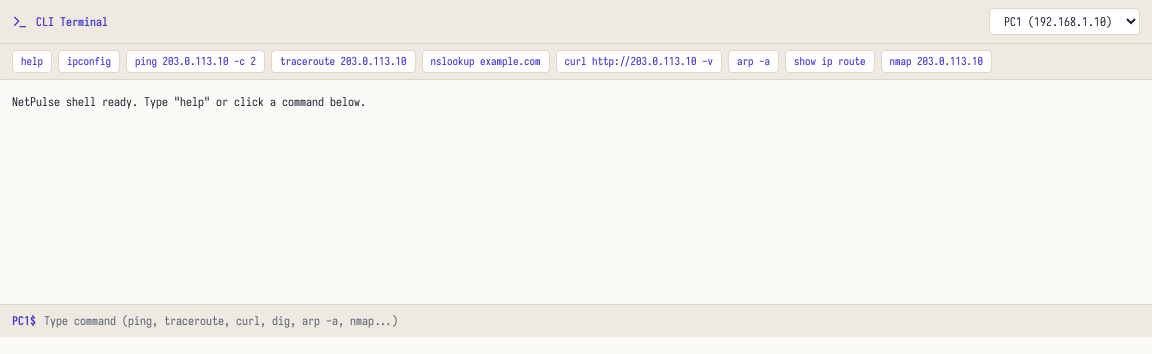
Test: UI Components Integration (SimCanvas, SimulatorWorkspace, TerminalEmulator, ExploreWorkspace, Header) › executes commands, navigates history, and clears TerminalEmulator
In the field named "CLI command input": (592, 320) [44,312,1140,328], type "ipconfig"
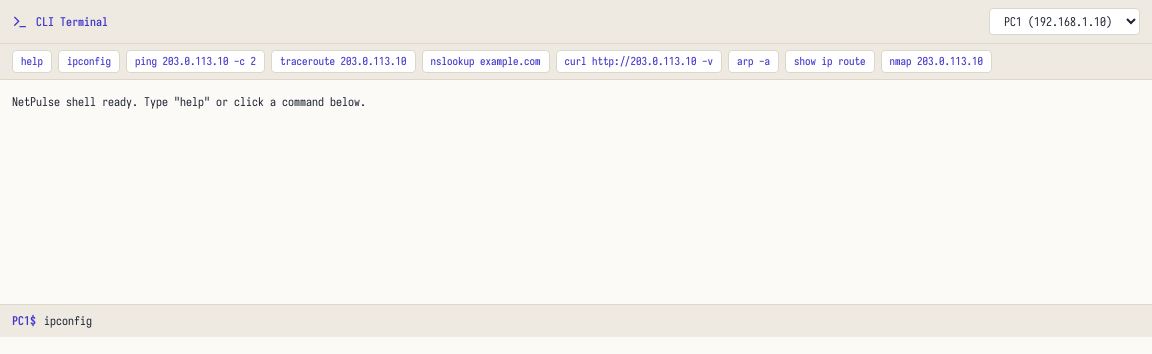
Submit the form named "CLI command input", box [0,304,1151,336]
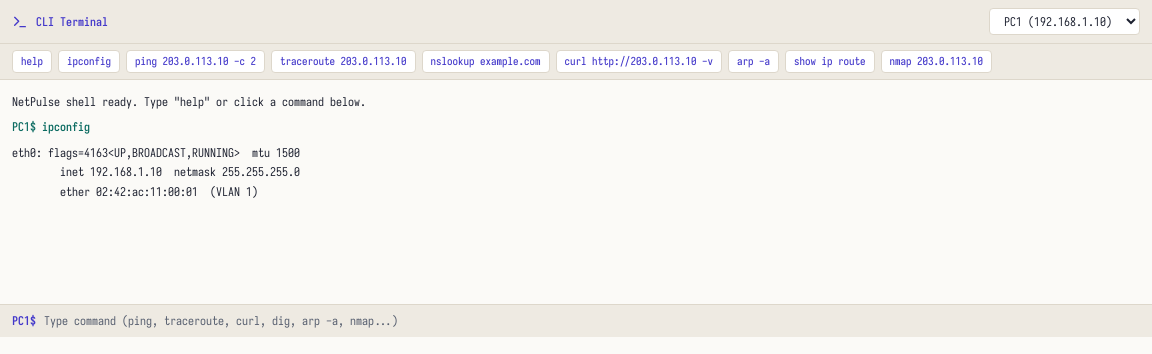
Press ArrowUp in the field named "CLI command input", box [44,312,1140,328]
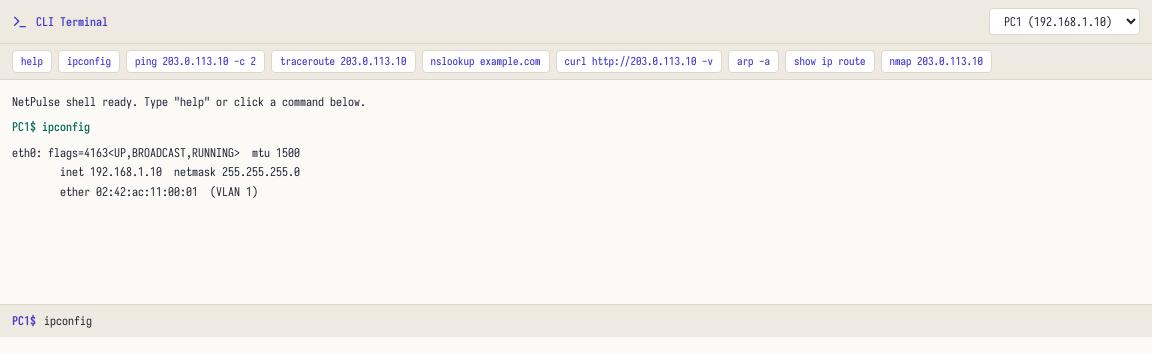
Replace the text in the field named "CLI command input" with "clear": (592, 320) [44,312,1140,328]
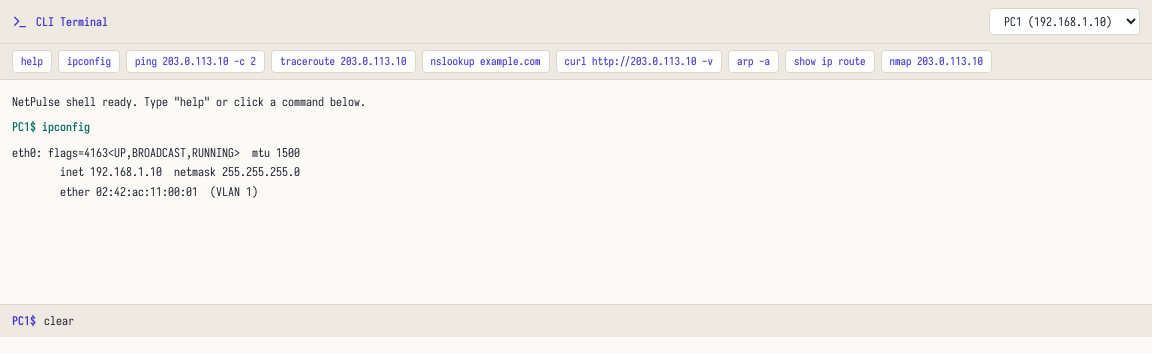
Submit the form named "CLI command input", box [0,304,1151,336]
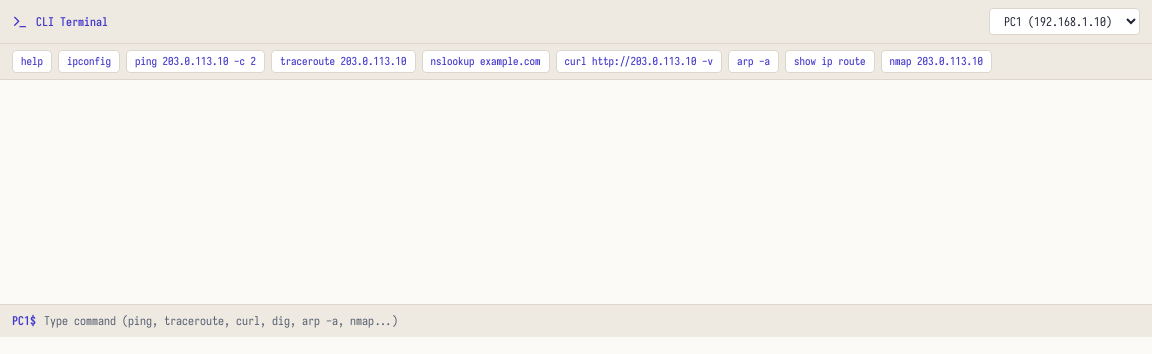
Now the text "NetPulse shell ready" is gone
